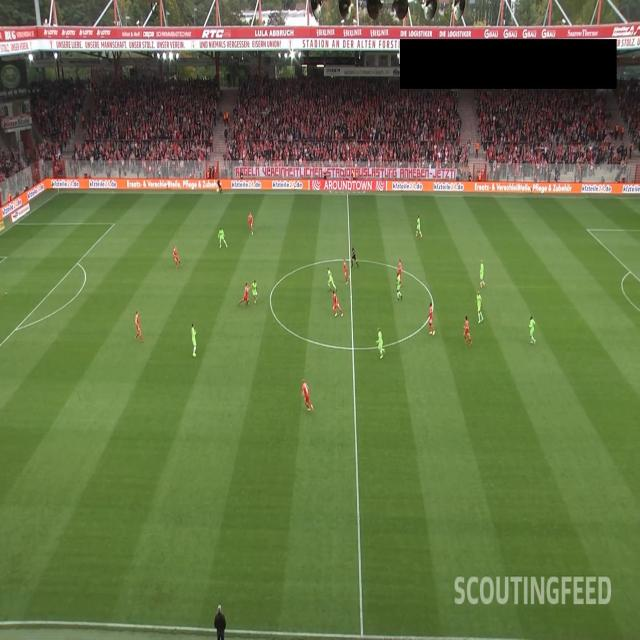ball: (255, 291, 258, 296)
